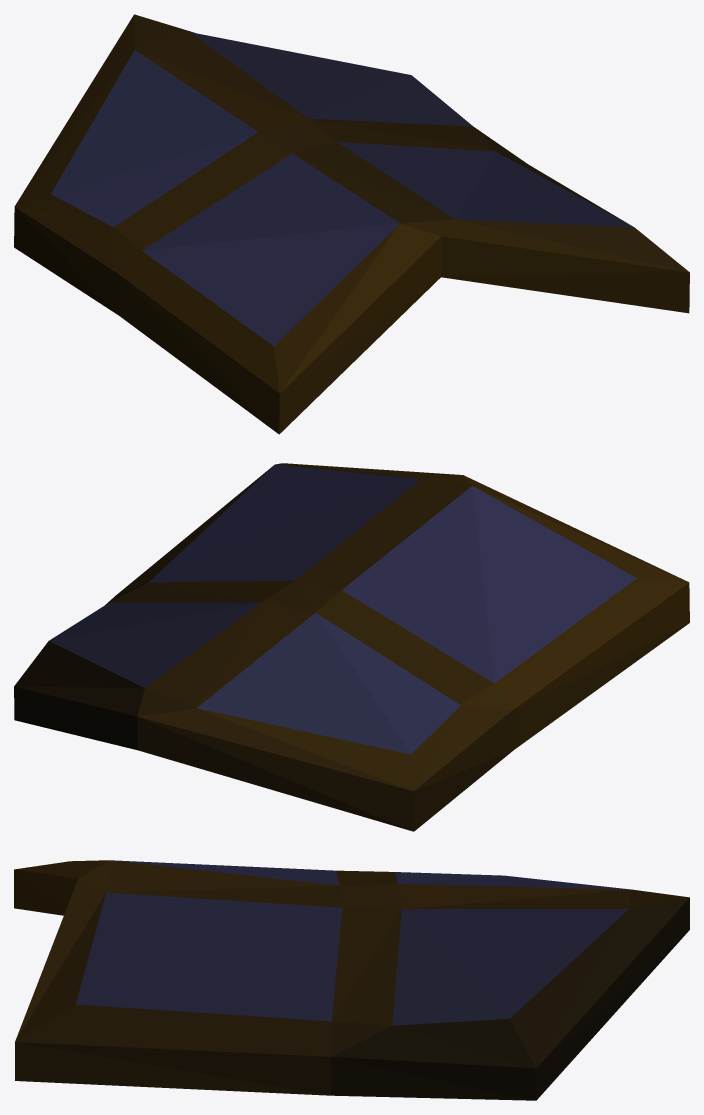
Rendered from mithril-kiteshield.obj.
3 views of the same model, one above another, from view 1: azimuth 30°, elevation 25°; view 2: azimuth 150°, elevation 25°; view 3: azimuth 270°, elevation 25° (orthographic). The views are drawn at different scales.
Parts seen in each view (by area): view 1: Item Mithril kiteshield 2026-09-24_18-14-08; view 2: Item Mithril kiteshield 2026-09-24_18-14-08; view 3: Item Mithril kiteshield 2026-09-24_18-14-08.
Boxes of the visible parts, x1=… form: Item Mithril kiteshield 2026-09-24_18-14-08: x1=14, y1=14, x2=689, y2=434; Item Mithril kiteshield 2026-09-24_18-14-08: x1=14, y1=463, x2=689, y2=831; Item Mithril kiteshield 2026-09-24_18-14-08: x1=14, y1=860, x2=689, y2=1100.
Bounding box in the file's own units: 63.84 × 21.62 × 93.81.
